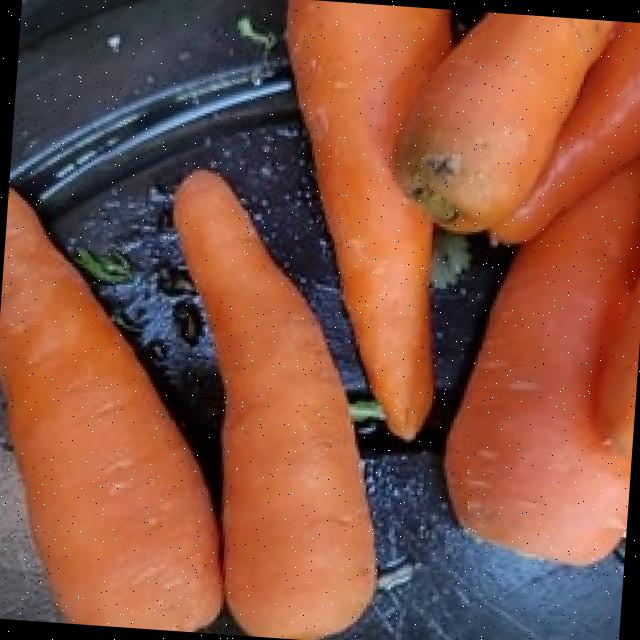carrot: (0, 196, 216, 632), (172, 174, 368, 640), (441, 162, 640, 565), (284, 2, 445, 440), (393, 16, 640, 245), (486, 26, 640, 245)
